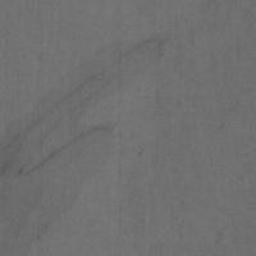Water spot: (0, 36, 165, 249)
